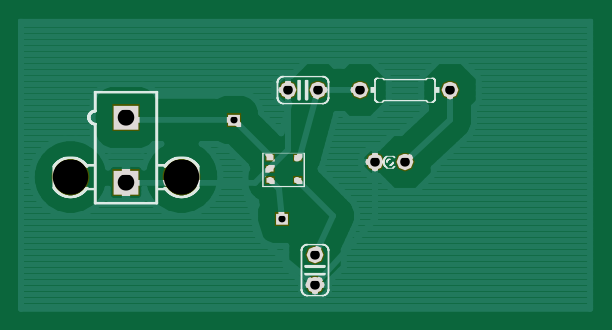LED: (365, 152, 414, 171)
capacitance: (275, 75, 329, 105), (300, 243, 329, 297)
power_supply: (52, 89, 201, 206)
regulation: (261, 152, 305, 188)
resistance: (350, 77, 459, 102)
